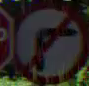Don't turn right: (13, 3, 85, 80)
